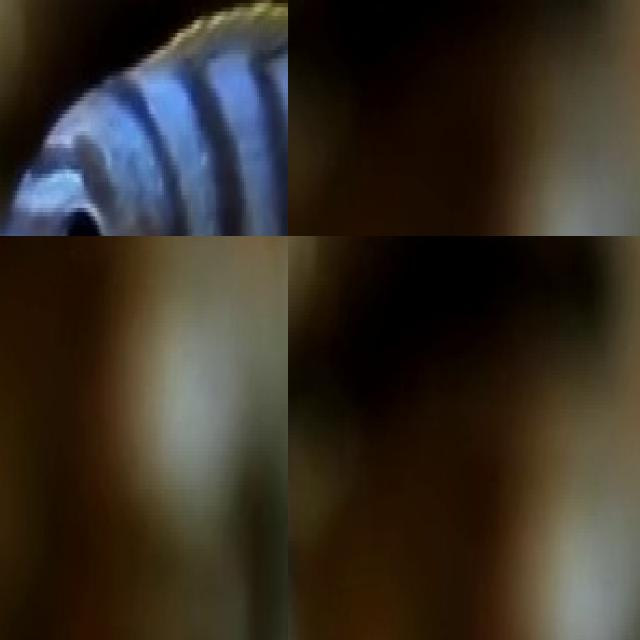fish: (0, 0, 288, 236)
